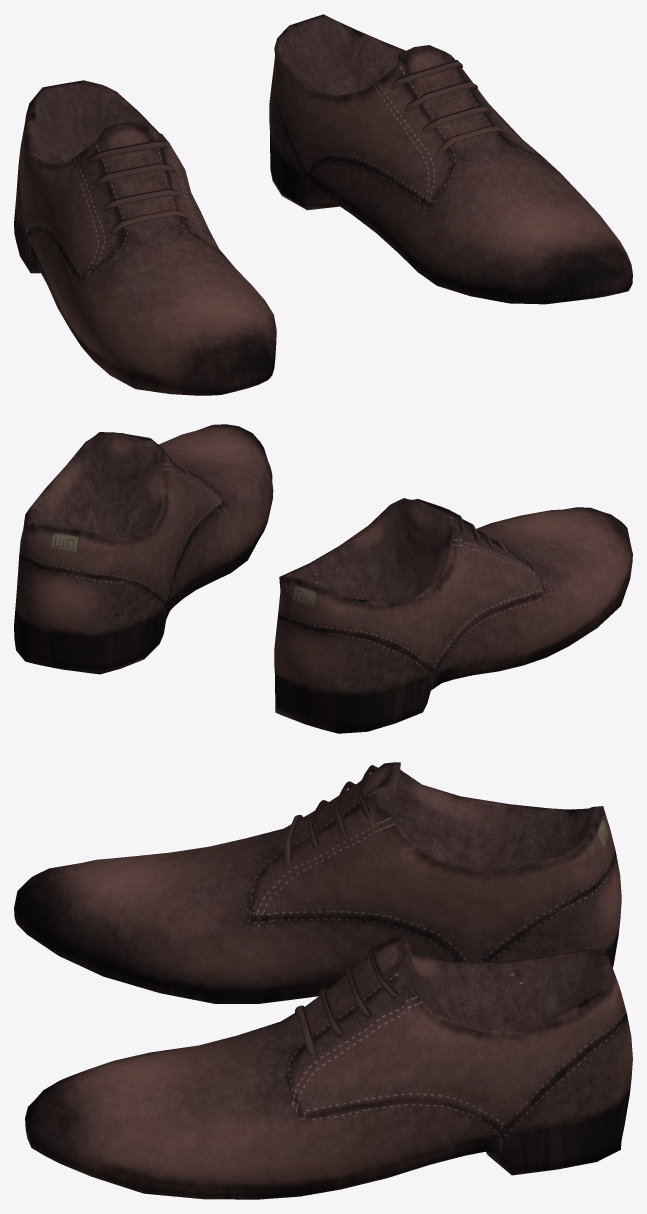
File: M_ShoesFormal.fbx
3 views of the same model, one above another, from view 1: azimuth 30°, elevation 25°; view 2: azimuth 150°, elevation 25°; view 3: azimuth 270°, elevation 25° (orthographic). The views are drawn at different scales.
Visible parts, largest first — view 1: M_ShoesFormal; view 2: M_ShoesFormal; view 3: M_ShoesFormal.
Boxes of the visible parts, left/top/right/bottom form: M_ShoesFormal: left=14, top=14, right=632, bottom=395; M_ShoesFormal: left=14, top=424, right=632, bottom=733; M_ShoesFormal: left=14, top=762, right=632, bottom=1199.
Bounding box in the file's own units: 14.38 × 4.78 × 12.83.
